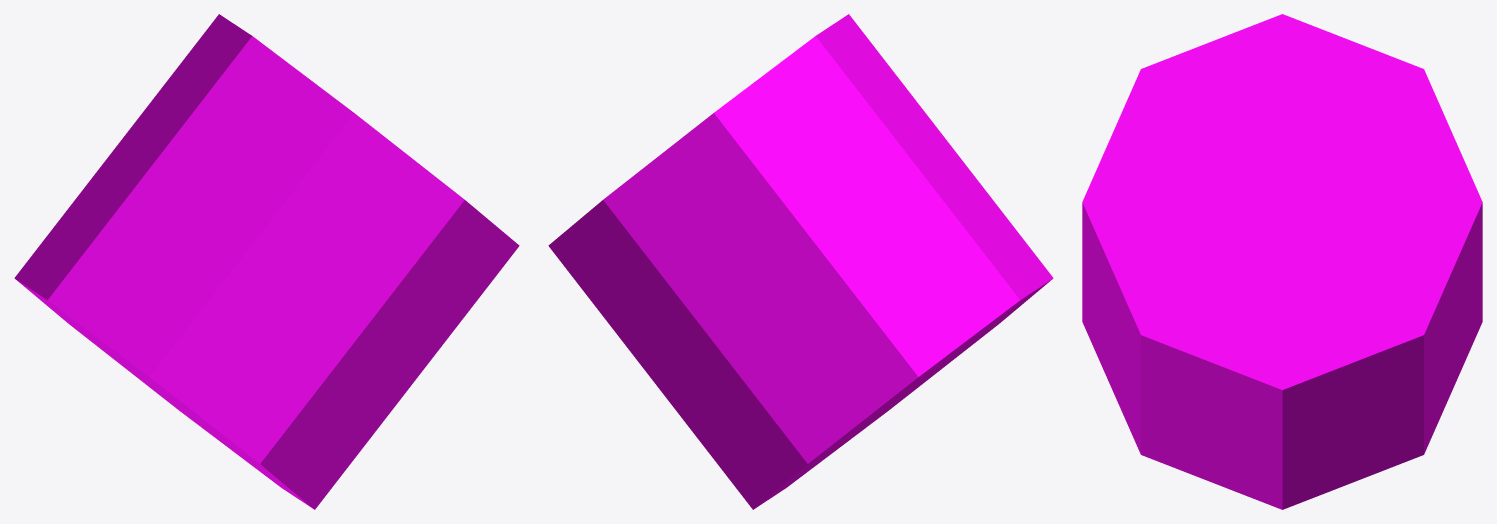
File: res.fbx
3 renders of one model, left to right at view 1: azimuth 30°, elevation 25°; view 2: azimuth 150°, elevation 25°; view 3: azimuth 270°, elevation 25°, orthographic. The views are drawn at different scales.
Parts seen in each view (by area): view 1: Cylinder.009; view 2: Cylinder.009; view 3: Cylinder.009.
Boxes of the visible parts, x1=… form: Cylinder.009: x1=14, y1=14, x2=519, y2=509; Cylinder.009: x1=548, y1=14, x2=1053, y2=509; Cylinder.009: x1=1082, y1=14, x2=1482, y2=509.
Bounding box in the file's own units: 106 × 106 × 80.
